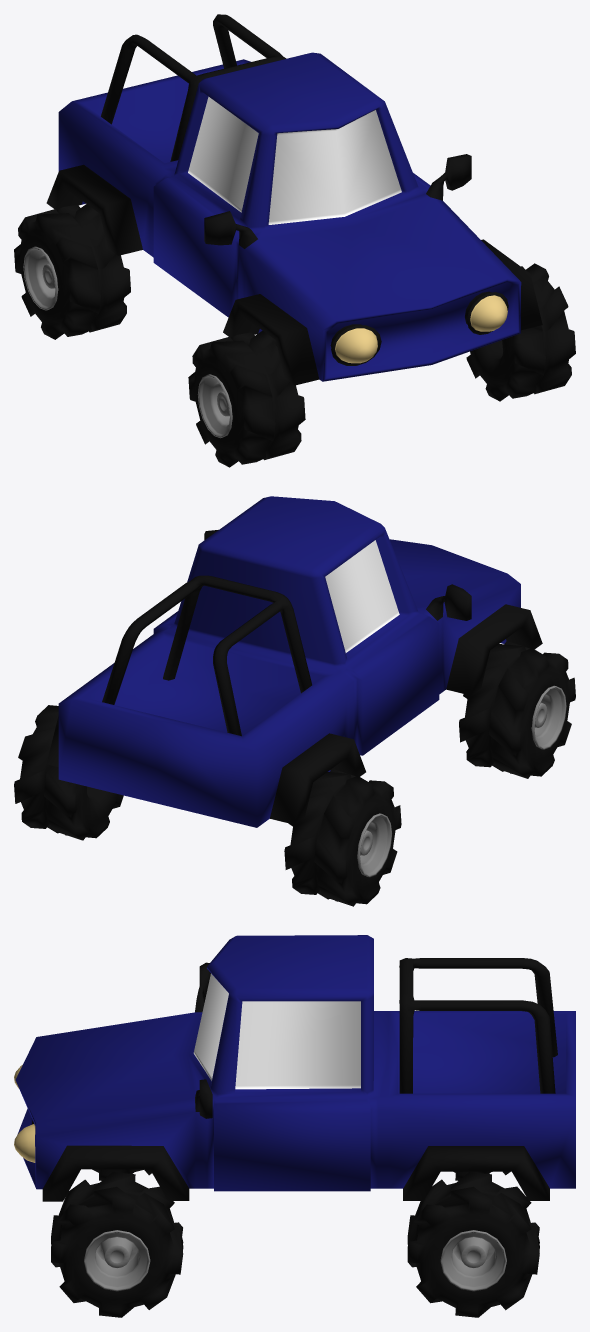
Rendered from bluecar.glb.
3 renders of one model, top to bottom at view 1: azimuth 30°, elevation 25°; view 2: azimuth 150°, elevation 25°; view 3: azimuth 270°, elevation 25°, orthographic. The views are drawn at different scales.
Visible parts, largest first — view 1: Cube_Cube.002, Cylinder.003, Cylinder.002, Cylinder, Cube.006_Cube.001, Circle.002, Circle.003; view 2: Cube_Cube.002, Cylinder.002, Cylinder.003, Cube.006_Cube.001, Cylinder.001, Circle.003, Circle.002; view 3: Cube_Cube.002, Cylinder.001, Cylinder, Cube.006_Cube.001, Circle.001, Circle.
Boxes of the visible parts, x1,y1,x2,y2 form: Cube_Cube.002: (46,52,542,385); Cylinder.003: (188,330,305,467); Cylinder.002: (14,204,130,339); Cylinder: (466,263,575,401); Cube.006_Cube.001: (101,14,286,161); Circle.002: (23,246,58,310); Circle.003: (197,374,232,438); Cube_Cube.002: (46,496,542,827); Cylinder.002: (284,768,401,906); Cylinder.003: (459,641,575,778); Cube.006_Cube.001: (102,575,311,736); Cylinder.001: (14,705,123,840); Circle.003: (531,685,566,749); Circle.002: (357,813,391,877); Cube_Cube.002: (14,935,575,1201); Cylinder.001: (407,1172,539,1317); Cylinder: (51,1172,183,1317); Cube.006_Cube.001: (399,958,557,1093); Circle.001: (440,1230,506,1291); Circle: (84,1230,150,1291).
Bounding box in the file's own units: 6.72 × 5.14 × 9.51.
